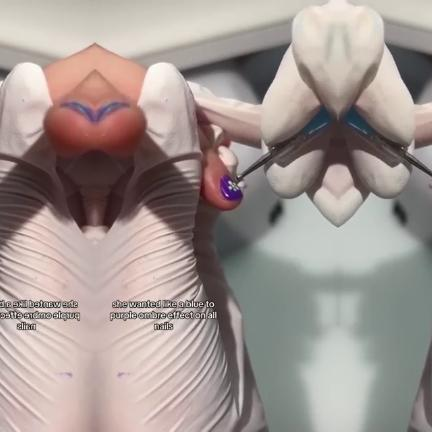Nail: (95, 102, 128, 122), (60, 102, 93, 122), (219, 175, 242, 201), (432, 194, 432, 196)
